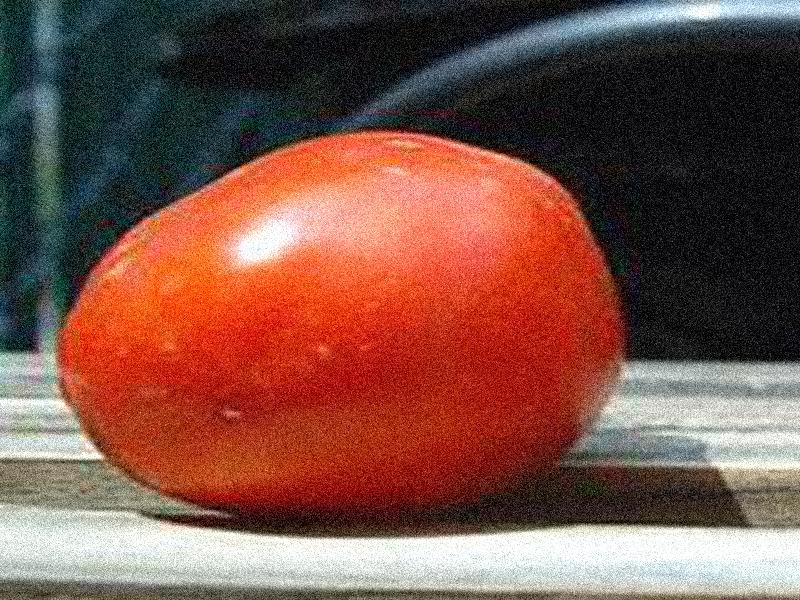Tomato: (55, 130, 620, 514)
